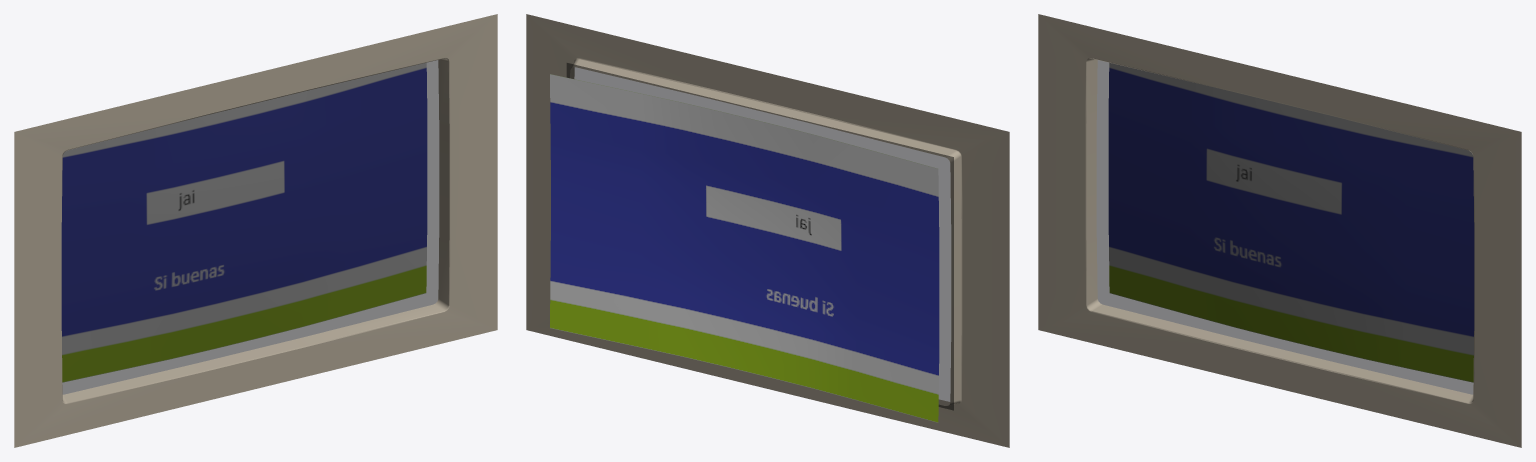
The model's file is crt.fbx.
3 renders of one model, left to right at view 1: azimuth 30°, elevation 25°; view 2: azimuth 150°, elevation 25°; view 3: azimuth 330°, elevation 25°, orthographic.
Parts seen in each view (by area): view 1: pPlane2, pPlane3, pPlane1; view 2: pPlane3, pPlane1, pPlane2; view 3: pPlane2, pPlane3, pPlane1.
Boxes of the visible parts, x1,y1,x2,y2 form: pPlane2: [61, 60, 439, 394]; pPlane3: [61, 63, 427, 382]; pPlane1: [14, 14, 497, 447]; pPlane3: [550, 74, 939, 422]; pPlane1: [526, 14, 1009, 447]; pPlane2: [566, 63, 953, 410]; pPlane2: [1096, 60, 1474, 394]; pPlane3: [1108, 63, 1474, 382]; pPlane1: [1038, 14, 1521, 447].
Bounding box in the file's own units: 22.1 × 13.81 × 1.89.
3 materials, 1 textured.
